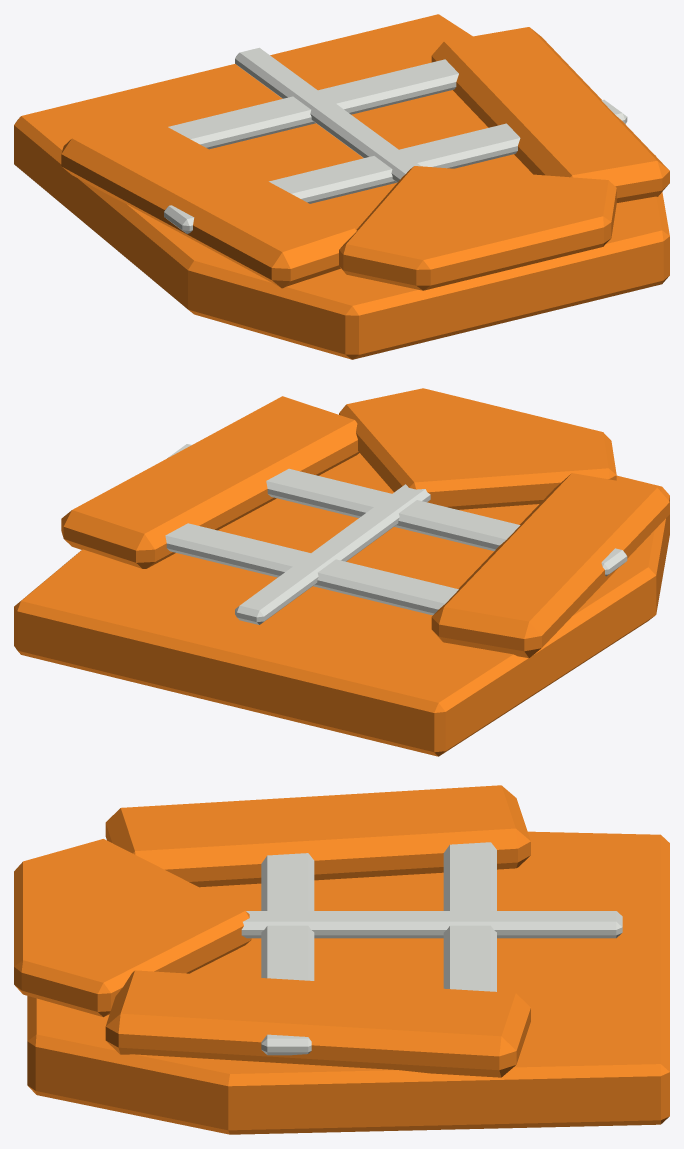
The model's file is item_hi_vis_vest.glb.
3 views of the same model, one above another, from view 1: azimuth 30°, elevation 25°; view 2: azimuth 150°, elevation 25°; view 3: azimuth 270°, elevation 25° (orthographic). The views are drawn at different scales.
Parts seen in each view (by area): view 1: item_hi_vis_vest; view 2: item_hi_vis_vest; view 3: item_hi_vis_vest.
Boxes of the visible parts, box(x1,y1,x2,y2) form: item_hi_vis_vest: box(14, 14, 669, 359); item_hi_vis_vest: box(14, 388, 669, 756); item_hi_vis_vest: box(14, 785, 669, 1134).
Size of the model in its own units: 0.4103 by 0.072 by 0.4312.
